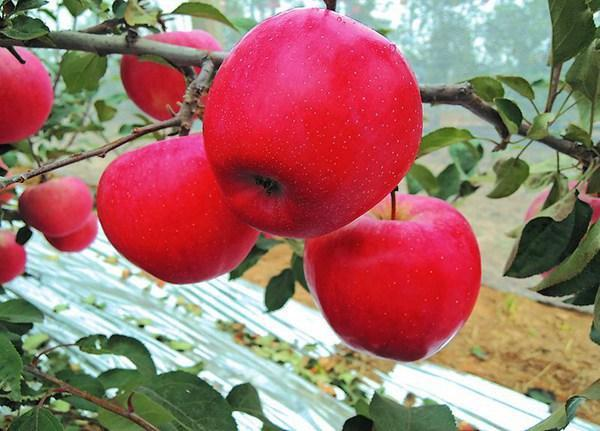apple: (205, 7, 424, 238), (304, 194, 486, 362), (95, 133, 260, 285), (120, 28, 225, 120), (1, 46, 53, 145), (16, 170, 91, 234)
